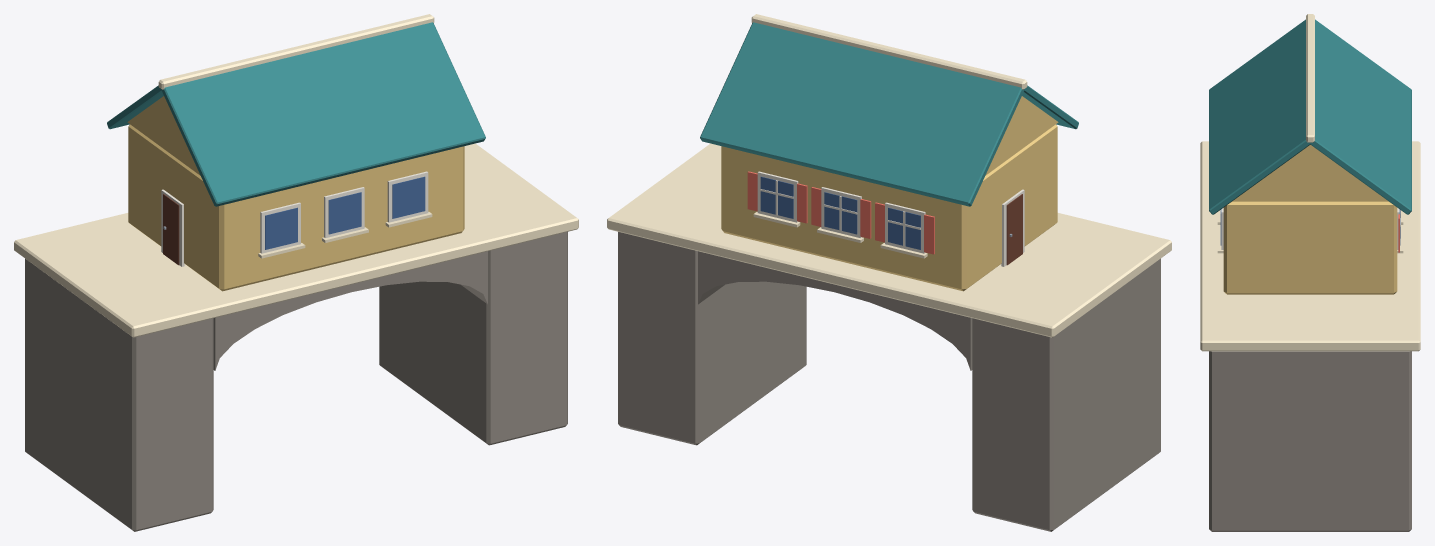
The model's file is bld_d3_d.glb.
The picture shows the model from 3 angles, left to right: view 1: azimuth 30°, elevation 25°; view 2: azimuth 150°, elevation 25°; view 3: azimuth 270°, elevation 25°; orthographic projection. The views are drawn at different scales.
Visible parts, largest first — view 1: bld_d3_d; view 2: bld_d3_d; view 3: bld_d3_d.
Boxes of the visible parts, x1,y1,x2,y2 form: bld_d3_d: (14, 14, 578, 531); bld_d3_d: (607, 14, 1171, 531); bld_d3_d: (1200, 14, 1420, 531).
Bounding box in the file's own units: 16.4 × 13.75 × 7.6.
